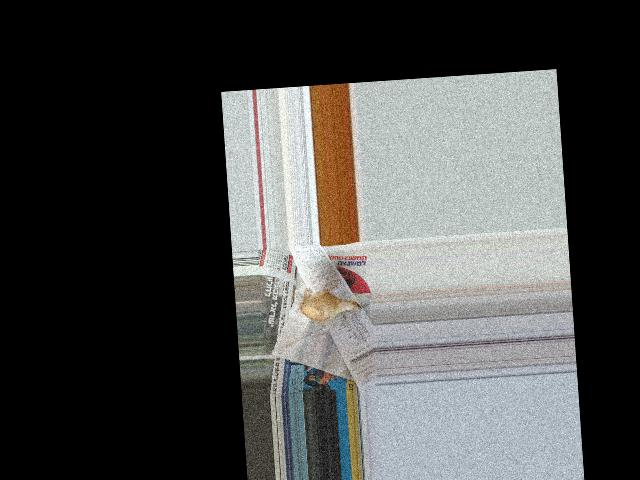onion: (301, 291, 347, 322)
